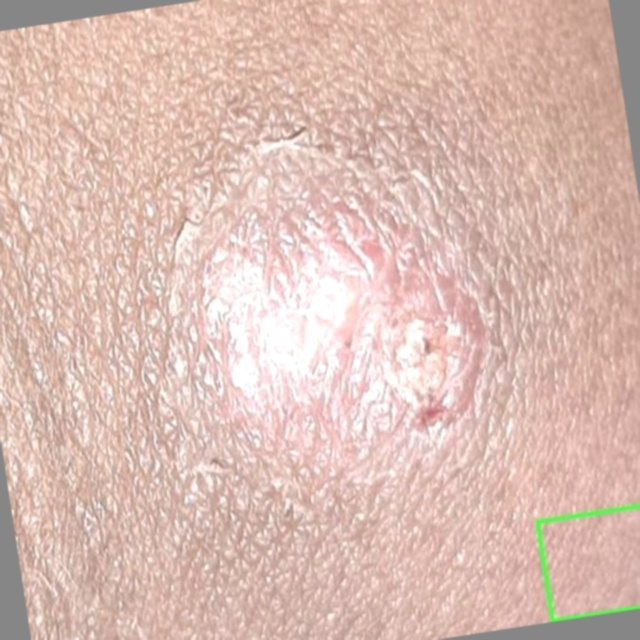Contact Dermatitis: (536, 506, 639, 621)
